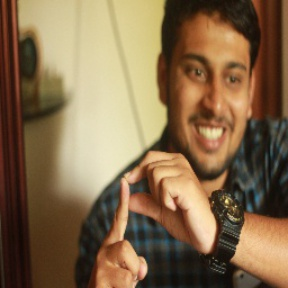P: (95, 148, 201, 288)
